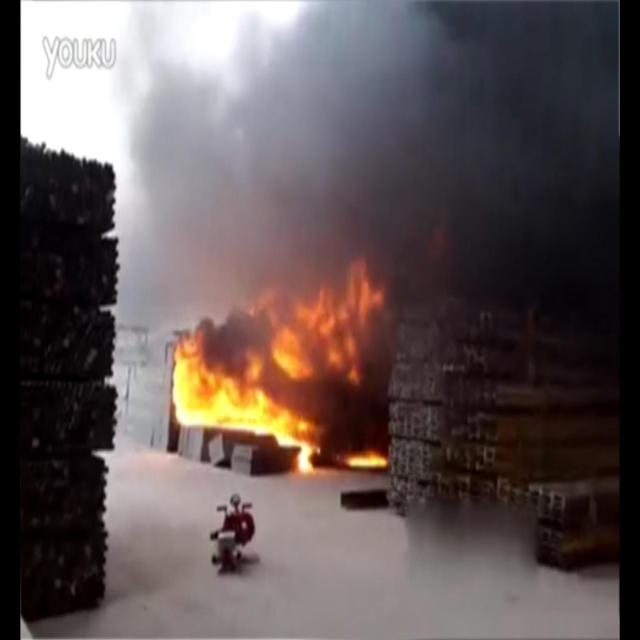fire: (165, 273, 390, 478)
smoke: (121, 0, 620, 326)
